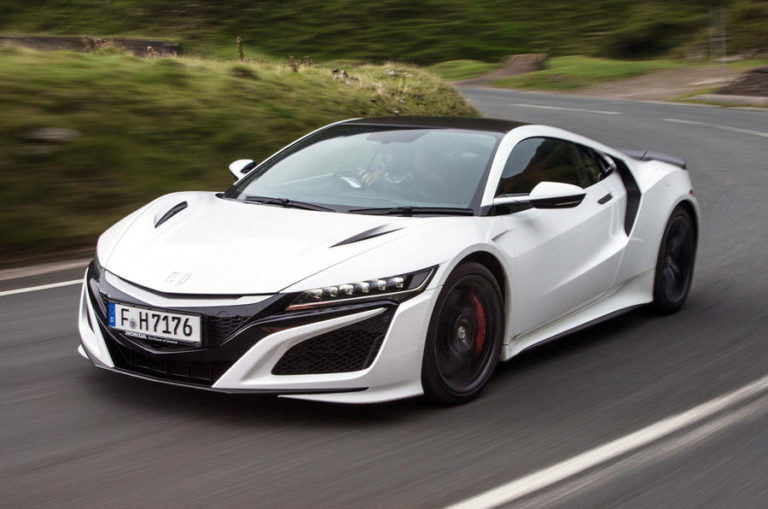araba: (76, 116, 699, 408)
